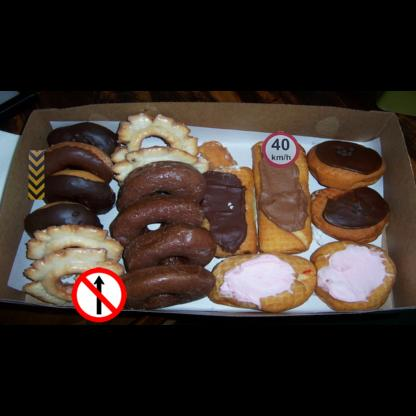O-MP: (28, 150, 44, 200)
R-19: (262, 132, 300, 168)
R-3: (71, 267, 127, 322)
